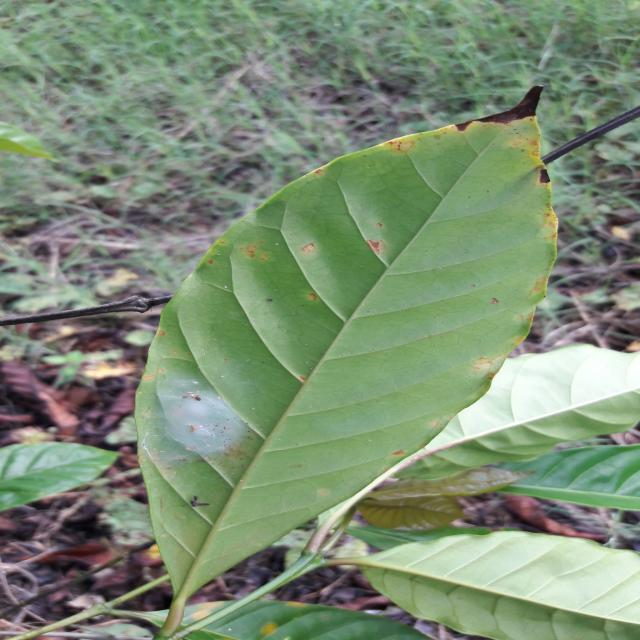Enfermedad-Roya: (134, 87, 561, 636)
